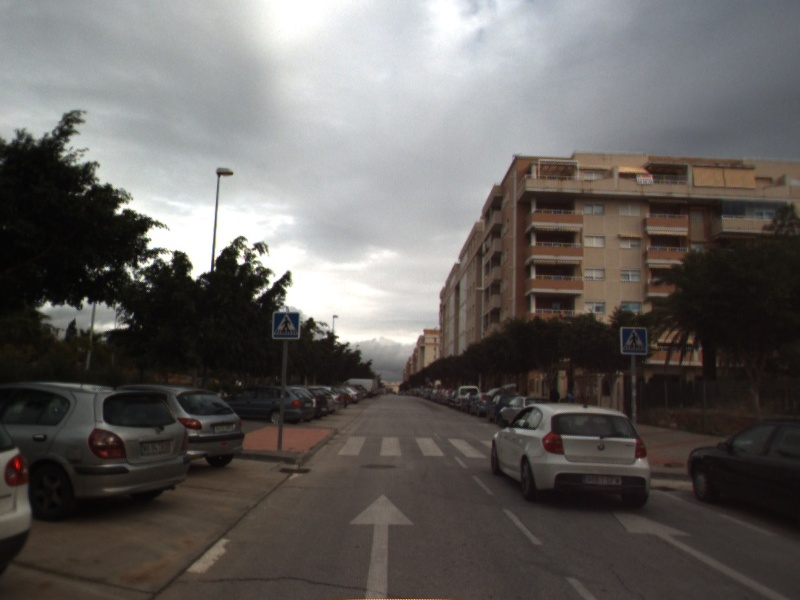STRAIGHT: (611, 508, 795, 600), (347, 492, 417, 600)
